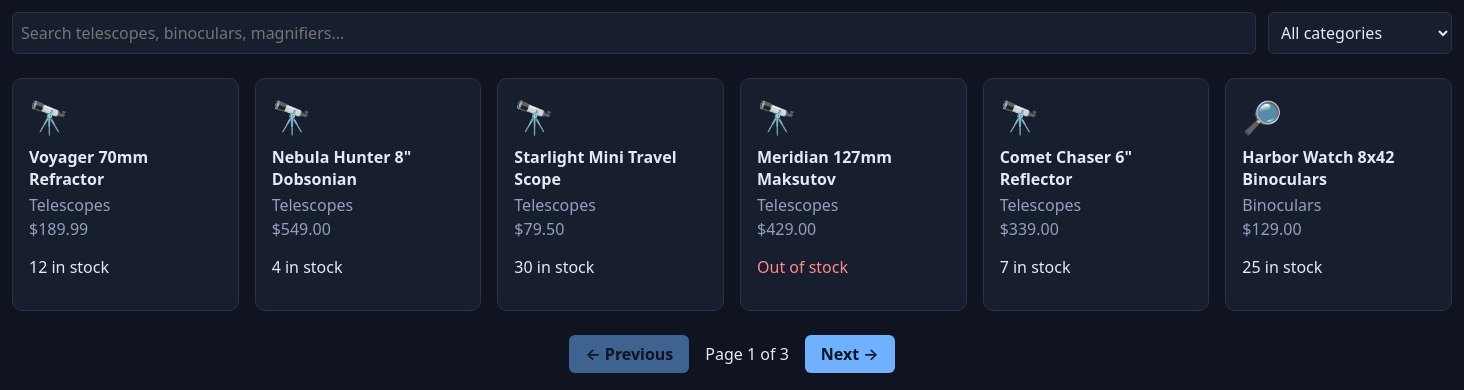
Test case: CatalogPage search › filters by category
This screenshot has width=1464, height=390.
Expected: the heading "Voyager 70mm Refractor" is shown, [29,146,148,190]
Select "Magnifying Glasses" in the dropdown named "Filter by category" at (1360, 33), box [1268,12,1452,54]
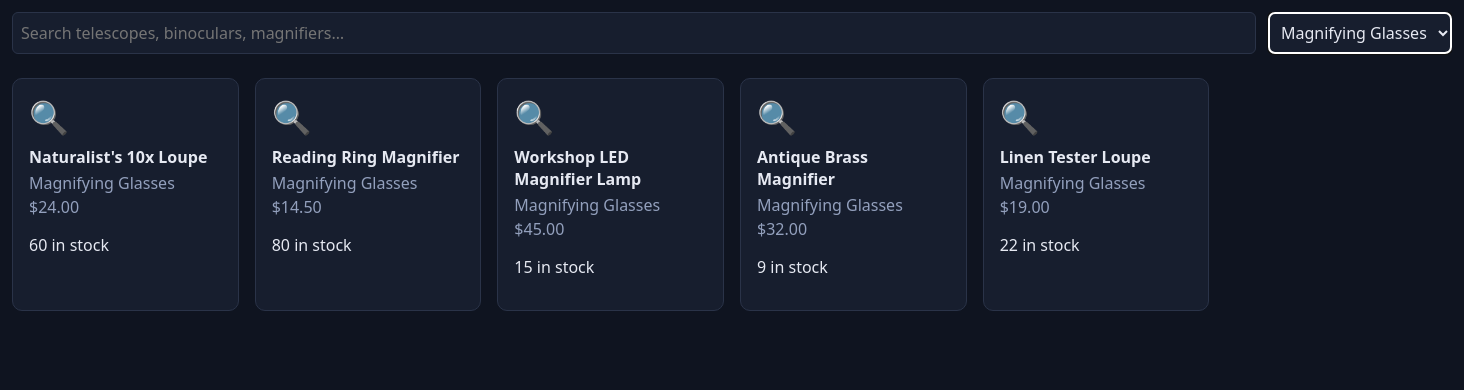
Expected: the heading "Naturalist's 10x Loupe" is shown, [29,146,222,168]
Expected: the link "Voyager 70mm Refractor" is gone
